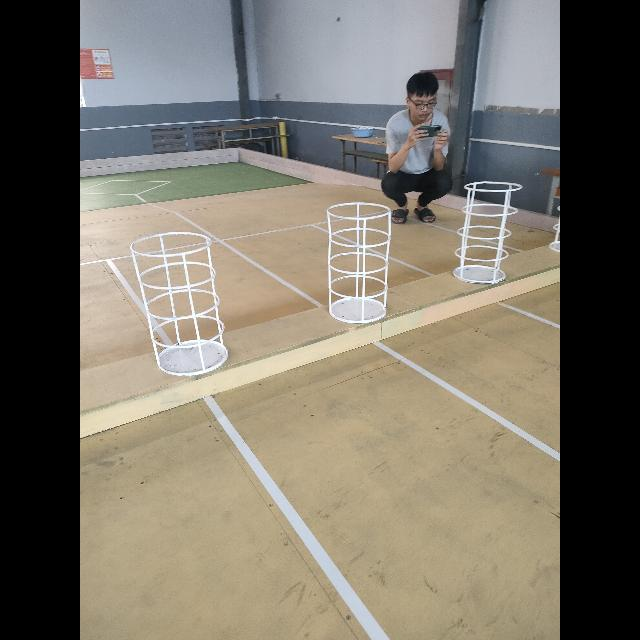S: (128, 231, 231, 378), (325, 201, 394, 325), (452, 180, 524, 286), (547, 204, 560, 254)
